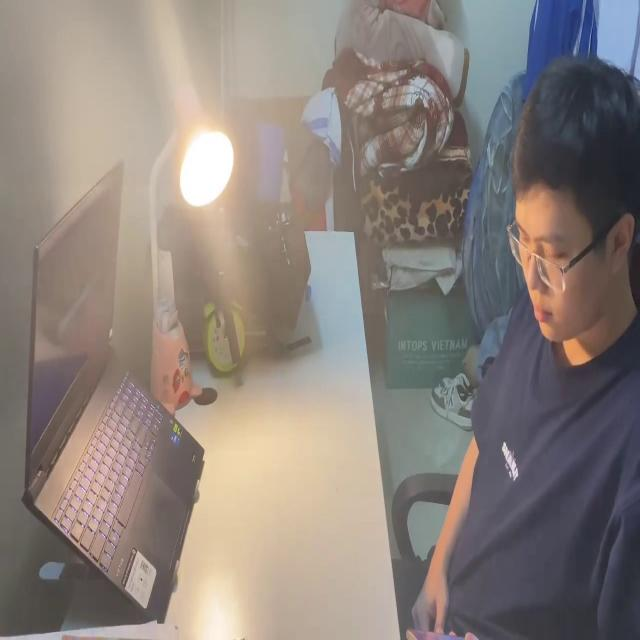book: (3, 622, 175, 638)
laptop: (22, 151, 207, 609)
phone: (400, 626, 480, 640)
student: (391, 55, 640, 640)
